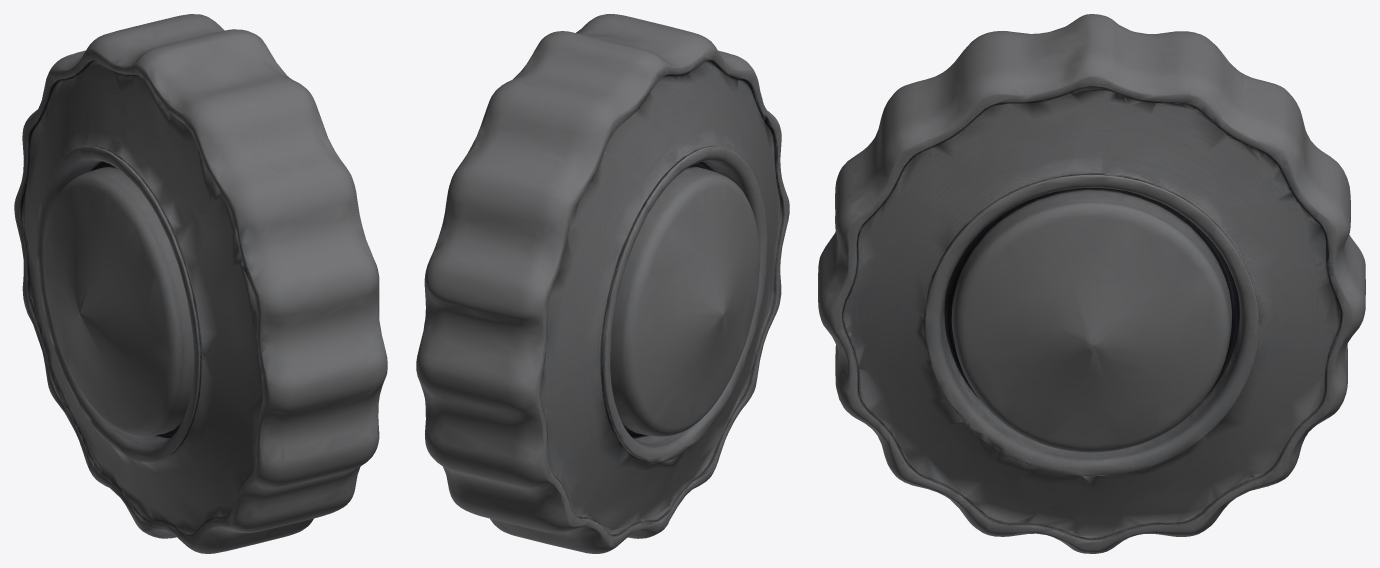
Rendered from btn-changeArtifact.glb.
3 views of the same model, side by side, from view 1: azimuth 30°, elevation 25°; view 2: azimuth 150°, elevation 25°; view 3: azimuth 270°, elevation 25° (orthographic). The views are drawn at different scales.
Parts seen in each view (by area): view 1: tripo_node_330442fd-e03e-4d16-a0b8-321e8c6d37b8; view 2: tripo_node_330442fd-e03e-4d16-a0b8-321e8c6d37b8; view 3: tripo_node_330442fd-e03e-4d16-a0b8-321e8c6d37b8.
Part boxes in pixels (x1,y1,x2,y2): tripo_node_330442fd-e03e-4d16-a0b8-321e8c6d37b8: [14, 14, 387, 553]; tripo_node_330442fd-e03e-4d16-a0b8-321e8c6d37b8: [416, 14, 789, 553]; tripo_node_330442fd-e03e-4d16-a0b8-321e8c6d37b8: [818, 14, 1365, 553].
Bounding box in the file's own units: 0.5225 × 0.9999 × 0.9978.
1 material, 1 textured.
